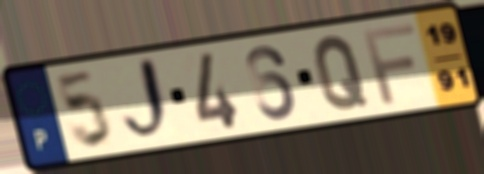4: (192, 48, 243, 133)
5: (51, 66, 114, 151)
6: (244, 43, 298, 121)
F: (359, 20, 419, 107)
J: (119, 53, 176, 148)
Q: (311, 33, 371, 113)
